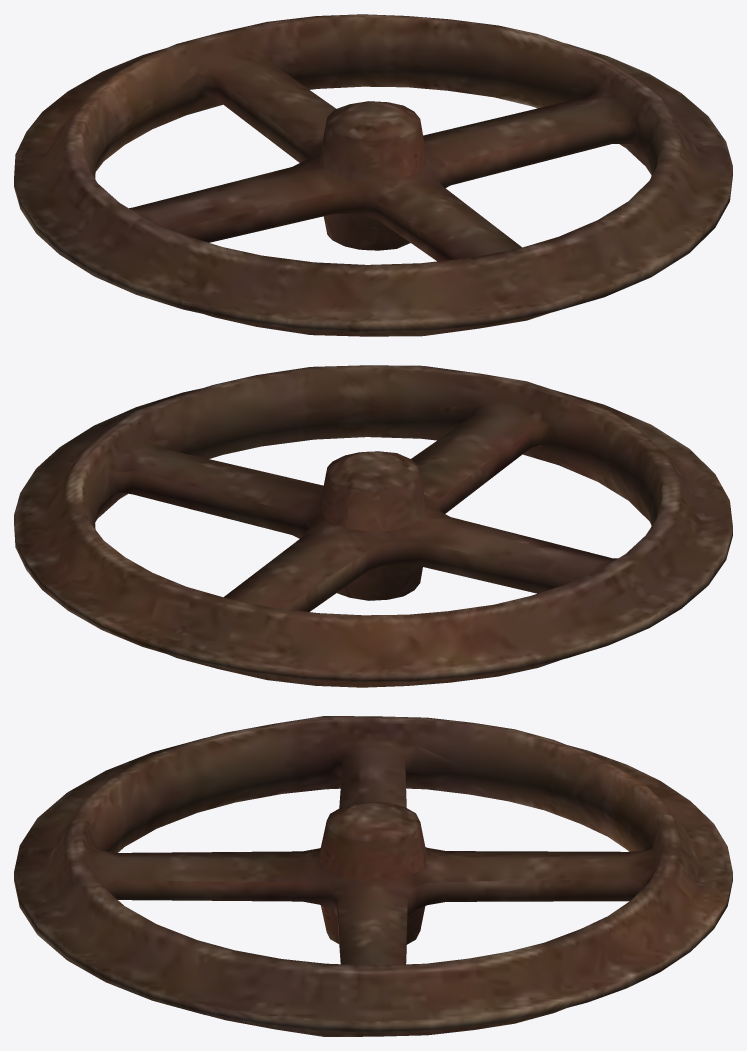
The model's file is metalwheel.glb.
3 views of the same model, one above another, from view 1: azimuth 30°, elevation 25°; view 2: azimuth 150°, elevation 25°; view 3: azimuth 270°, elevation 25° (orthographic).
Visible parts, largest first — view 1: metalwheel; view 2: metalwheel; view 3: metalwheel.
Part boxes in pixels (x1=…): metalwheel: x1=14, y1=14, x2=732, y2=336; metalwheel: x1=14, y1=365, x2=732, y2=687; metalwheel: x1=14, y1=716, x2=732, y2=1036.
Size of the model in its own units: 0.5534 by 0.1069 by 0.5551.
1 material, 1 textured.
